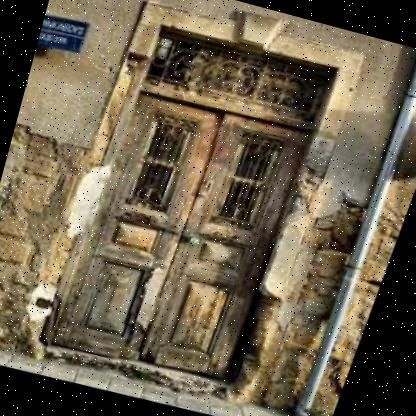door: (48, 6, 330, 398)
